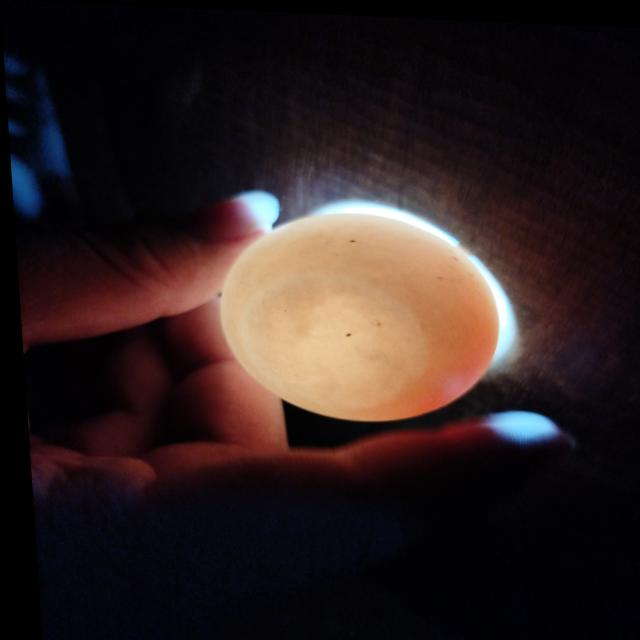Camara de Ar: (240, 274, 417, 405)
